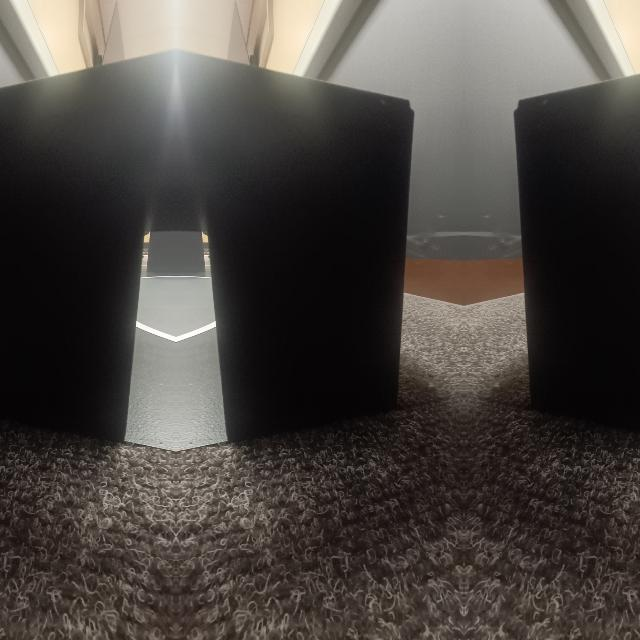obstacle: (176, 48, 416, 440), (0, 48, 174, 440), (511, 48, 640, 440)
